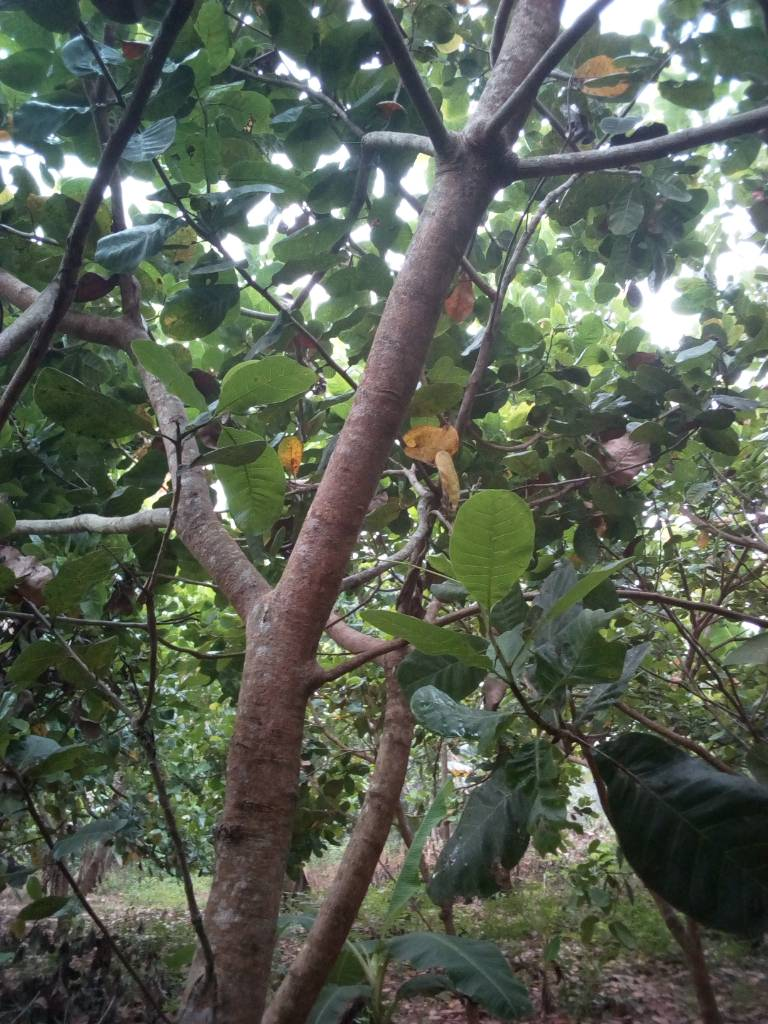Helopeltis anacardii: (600, 735, 768, 932), (538, 610, 633, 707), (515, 735, 569, 855)
